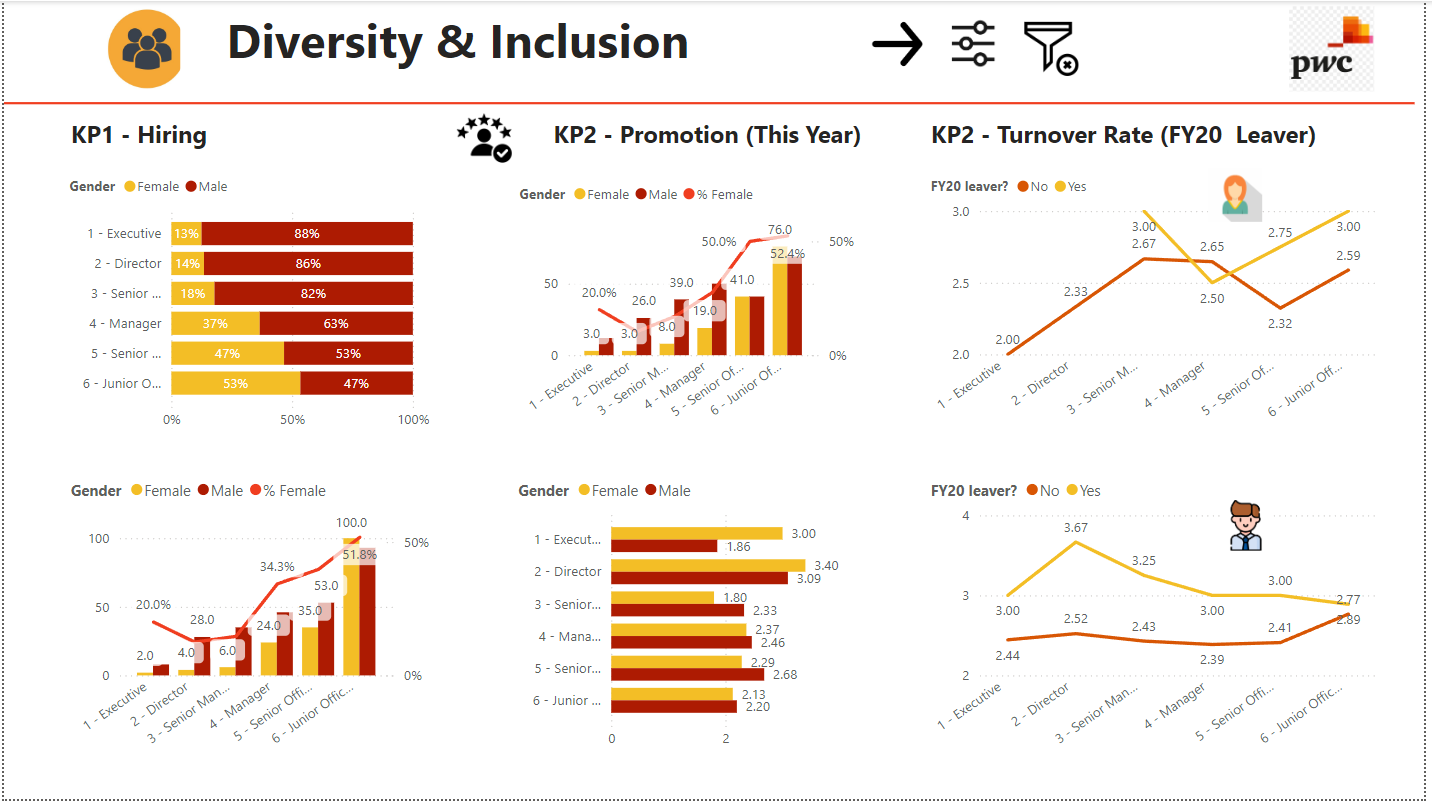

The page's visual inventory and layout, read from the dashboard file:
{"tool":"powerbi","page":{"name":"Page 1","canvas":[1280,720],"ordinal":0},"visuals":[{"type":"shape","box":[0,83.4,1271.9,17.5],"z":0},{"type":"lineClusteredColumnComboChart","title":"Count of Employee and % Female by Job Level before FY20 promotions and Gender","fields":{"Y":["CountNonNull(Pharma.Employee ID)"],"Y2":["Pharma.% Female"],"Series":["Pharma.Gender"],"Category":["Pharma.Job Level after FY21 promotions"]},"box":[459.9,154.9,312.2,234.1],"z":1000},{"type":"hundredPercentStackedBarChart","title":"FY20 promotions and Gender","fields":{"Category":["Pharma.Job Level after FY20 promotions"],"Series":["Pharma.Gender"],"Y":["CountNonNull(Pharma.Employee ID)"]},"box":[54.1,147.7,334.8,248],"z":3000},{"type":"lineClusteredColumnComboChart","title":"Count of Employee and % Female by Job Level before FY20 promotions and Gender","fields":{"Category":["Pharma.Job Level before FY20 promotions"],"Y":["CountNonNull(Pharma.Employee ID)"],"Y2":["Pharma.% Female"],"Series":["Pharma.Gender"]},"box":[55.2,420.4,333.6,262.6],"z":4000},{"type":"clusteredBarChart","fields":{"Category":["Pharma.Job Level after FY20 promotions"],"Series":["Pharma.Gender"],"Y":["Avg(Pharma.Time in Job Level @01.07.2020)"]},"box":[458.7,420.4,303.2,262.6],"z":5000},{"type":"lineChart","fields":{"Category":["Pharma.Job Level after FY20 promotions"],"Series":["Pharma.FY20 leaver?"],"Y":["Avg(Pharma.FY19 Performance Rating)"]},"box":[830.7,147.7,411.4,241.2],"z":6000},{"type":"lineChart","fields":{"Category":["Pharma.Job Level after FY20 promotions"],"Series":["Pharma.FY20 leaver?"],"Y":["Avg(Pharma.FY19 Performance Rating)"]},"box":[830.7,420.4,411.4,262.6],"z":7000},{"type":"textbox","box":[55.7,100.2,333.9,43.1],"z":9000},{"type":"textbox","box":[490.3,100.3,340.4,42.8],"z":10000},{"type":"textbox","box":[830.7,100.3,411.4,42.8],"z":11000},{"type":"image","box":[1080.7,142.9,58.8,62.4],"z":13000},{"type":"image","box":[1090.3,445.5,60,55.2],"z":14000},{"type":"image","box":[397.4,92.5,70.8,62.4],"z":15000},{"type":"image","title":"Setting","box":[841.7,8.3,64,61.2],"z":16000},{"type":"image","title":"Clean Filter","box":[915.5,12.6,58.6,61.4],"z":17000},{"type":"image","box":[761.8,0,88,78],"z":21000},{"type":"image","box":[83,0,91.3,86.3],"z":22250},{"type":"image","box":[1150.3,0,92.5,86.5],"z":22375},{"type":"textbox","title":"Title","box":[158.6,0,500.9,73.7],"z":22500}]}

Visuals, with their boxes in screenshot pixels (x1, y1, x2, y2), scaled from the page's 1280x720 canvas onto the 1432x805 screenshot:
shape: crop(0, 93, 1423, 113)
"Count of Employee and % Female by Job Level before FY20 promotions and Gender" lineClusteredColumnComboChart: crop(515, 173, 864, 435)
"FY20 promotions and Gender" hundredPercentStackedBarChart: crop(61, 165, 435, 442)
"Count of Employee and % Female by Job Level before FY20 promotions and Gender" lineClusteredColumnComboChart: crop(62, 470, 435, 764)
clusteredBarChart - Pharma.Job Level after FY20 promotions x Pharma.Gender: crop(513, 470, 852, 764)
lineChart - Pharma.Job Level after FY20 promotions x Pharma.FY20 leaver?: crop(929, 165, 1390, 435)
lineChart - Pharma.Job Level after FY20 promotions x Pharma.FY20 leaver?: crop(929, 470, 1390, 764)
textbox: crop(62, 112, 436, 160)
textbox: crop(549, 112, 929, 160)
textbox: crop(929, 112, 1390, 160)
image: crop(1209, 160, 1275, 230)
image: crop(1220, 498, 1287, 560)
image: crop(445, 103, 524, 173)
"Setting" image: crop(942, 9, 1013, 78)
"Clean Filter" image: crop(1024, 14, 1090, 83)
image: crop(852, 0, 951, 87)
image: crop(93, 0, 195, 96)
image: crop(1287, 0, 1390, 97)
"Title" textbox: crop(177, 0, 738, 82)
